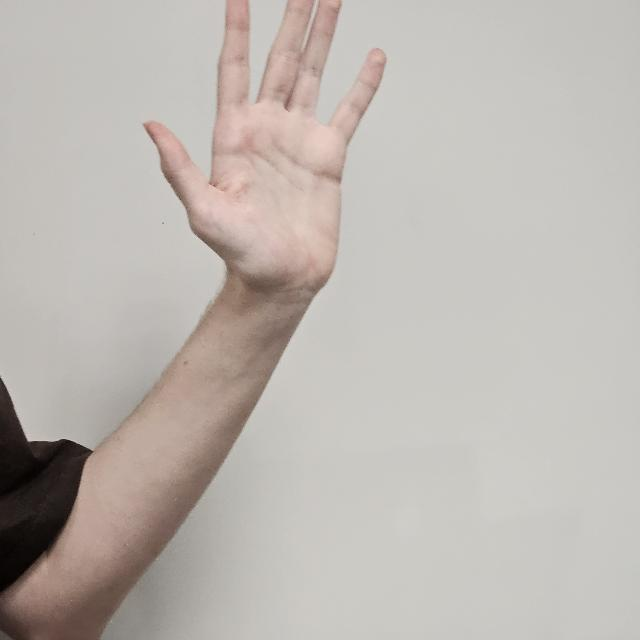X: (140, 1, 410, 292)
